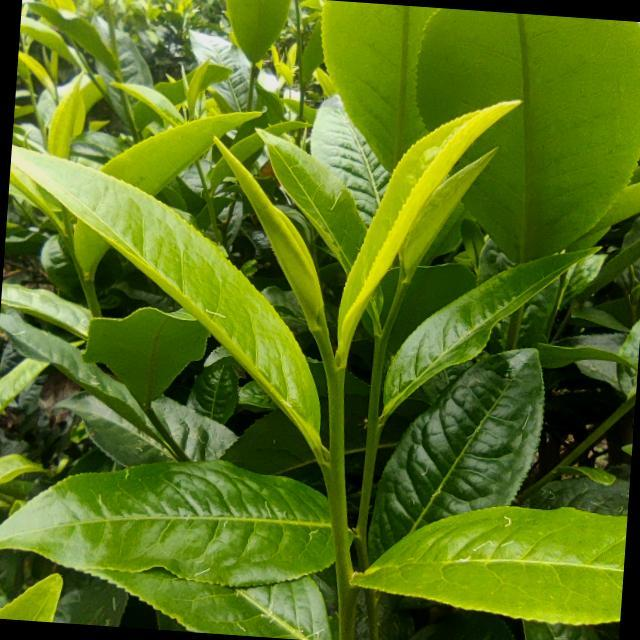Stem: (325, 363, 346, 387), (376, 332, 388, 351)
